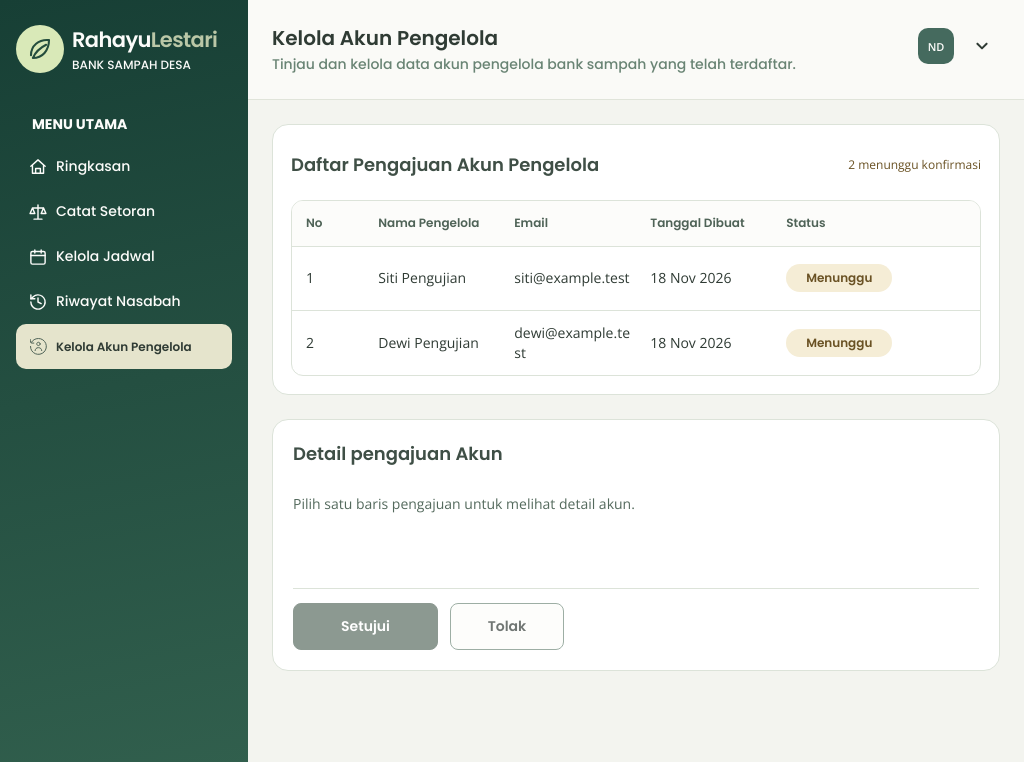
Test: Kelola Akun Pengelola › verifies uncertain network outcome by GET, committed=true, without retrying POST
Click the button "Siti Pengujian" at (426,278), box [378,268,473,288]
(page scrolled)
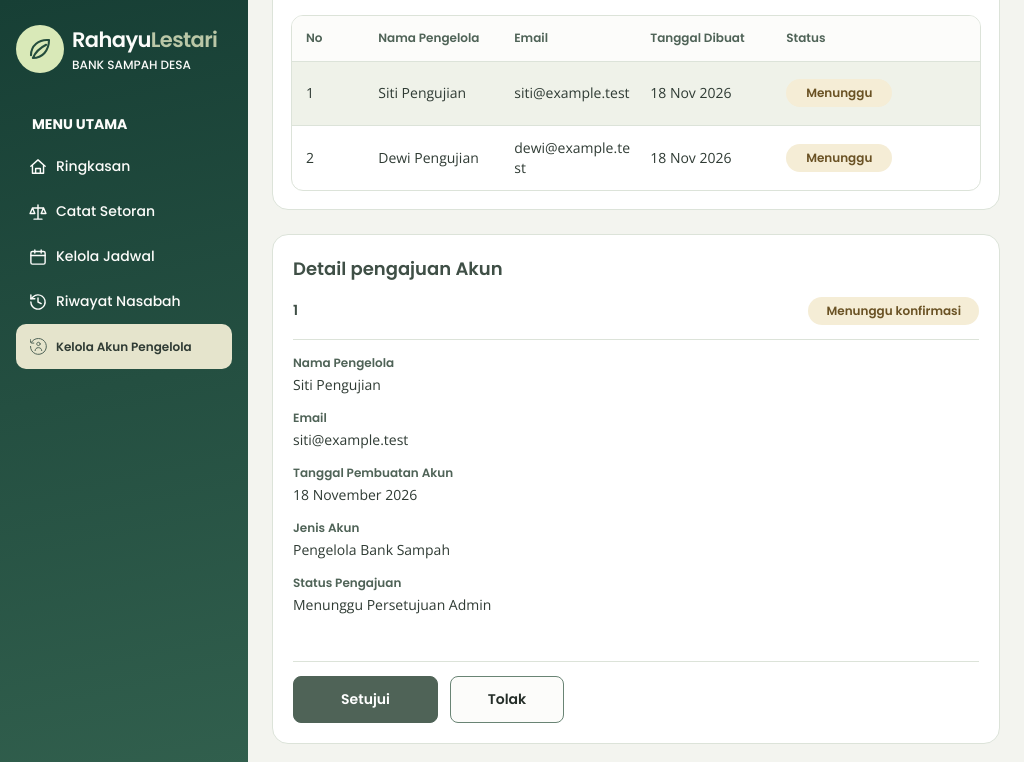
Check: the text "siti@example.test" is shown, box [293,430,408,448]
Click the button "Setujui" at (366,699), box [293,676,438,722]
(page scrolled)
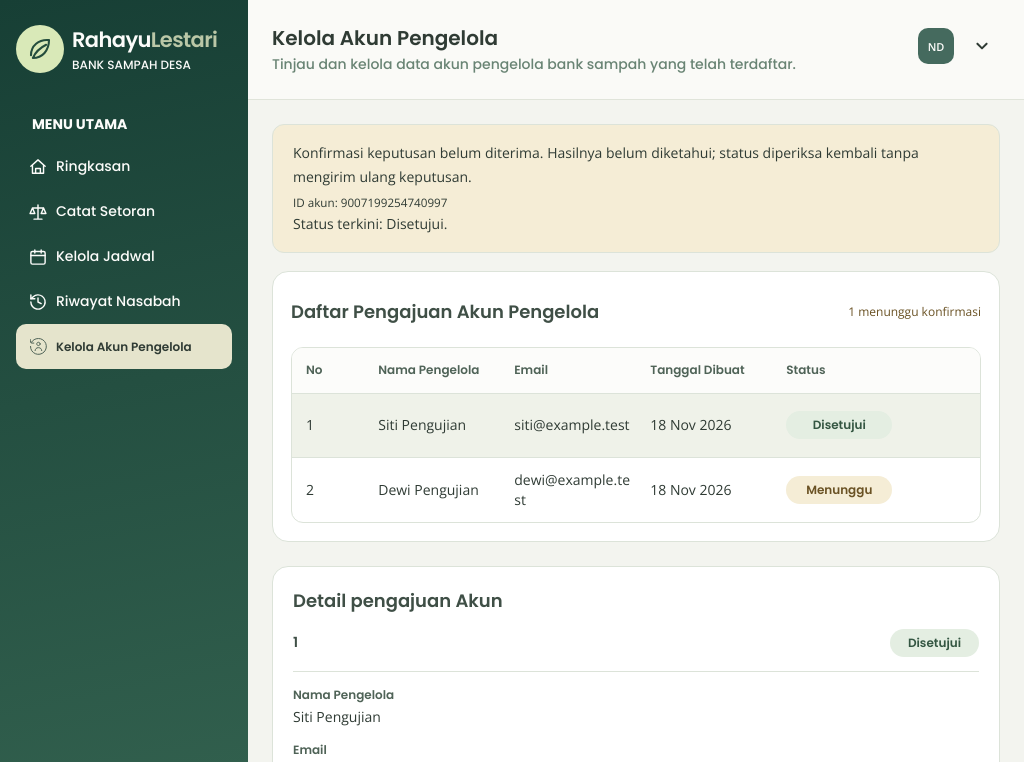
Check: the text "Status terkini: Disetujui." is shown, box [293,214,447,233]
